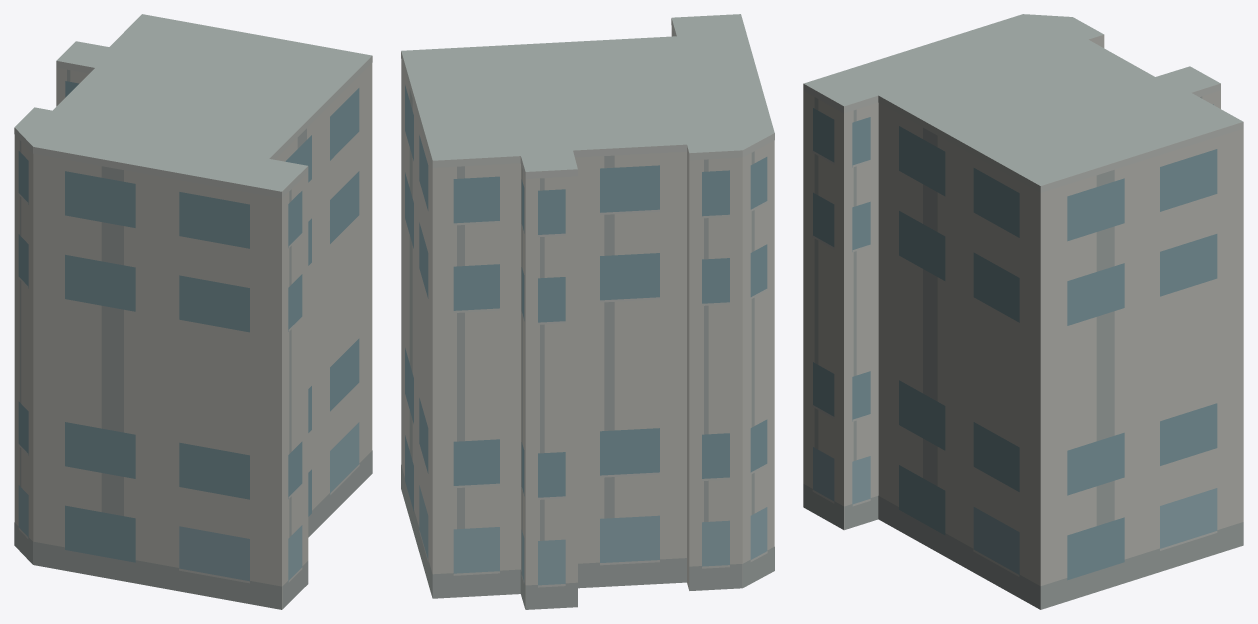
Rendered from residential-bf957075-3c57-47b3-b1c9-890cd8932ae5.glb.
The picture shows the model from 3 angles, left to right: view 1: azimuth 30°, elevation 25°; view 2: azimuth 150°, elevation 25°; view 3: azimuth 270°, elevation 25°; orthographic projection. The views are drawn at different scales.
Visible parts, largest first — view 1: residential-bf957075-3c57-47b3-b1c9-890cd8932ae5.tmp; view 2: residential-bf957075-3c57-47b3-b1c9-890cd8932ae5.tmp; view 3: residential-bf957075-3c57-47b3-b1c9-890cd8932ae5.tmp.
Part boxes in pixels (<box>): residential-bf957075-3c57-47b3-b1c9-890cd8932ae5.tmp: <box>14,14,372,609</box>; residential-bf957075-3c57-47b3-b1c9-890cd8932ae5.tmp: <box>401,14,774,609</box>; residential-bf957075-3c57-47b3-b1c9-890cd8932ae5.tmp: <box>803,14,1243,609</box>.
Size of the model in its own units: 12.81 by 14.7 by 13.85.
